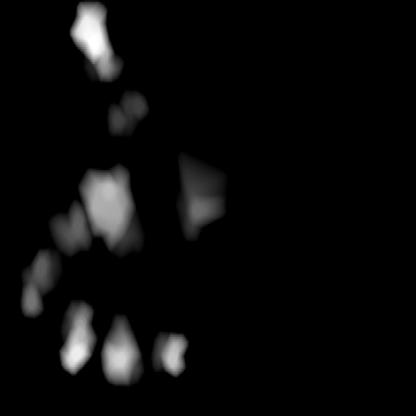fingers: (69, 3, 118, 78)
palm: (21, 292, 185, 378)
thumb: (84, 91, 203, 249)
